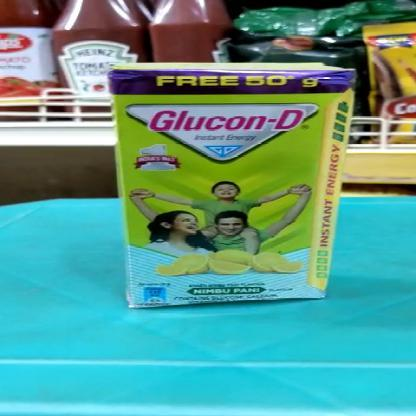Glucon D Nimbu Pani 1-KG: (112, 70, 346, 304)
